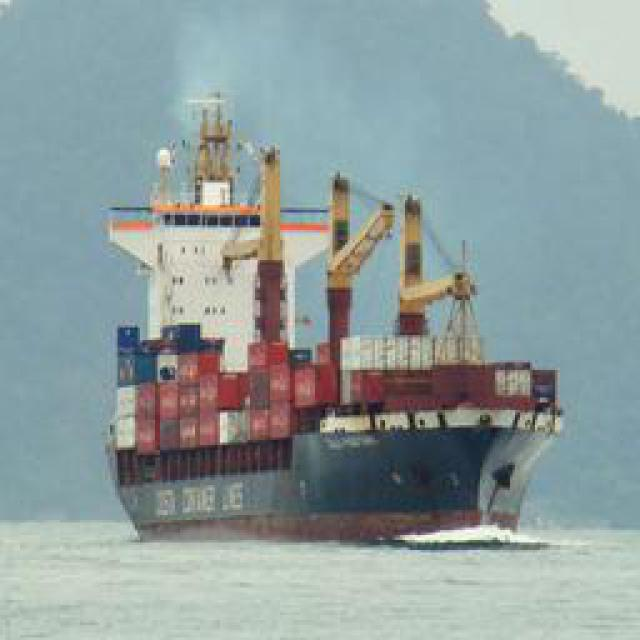Ship: (84, 98, 567, 543)
